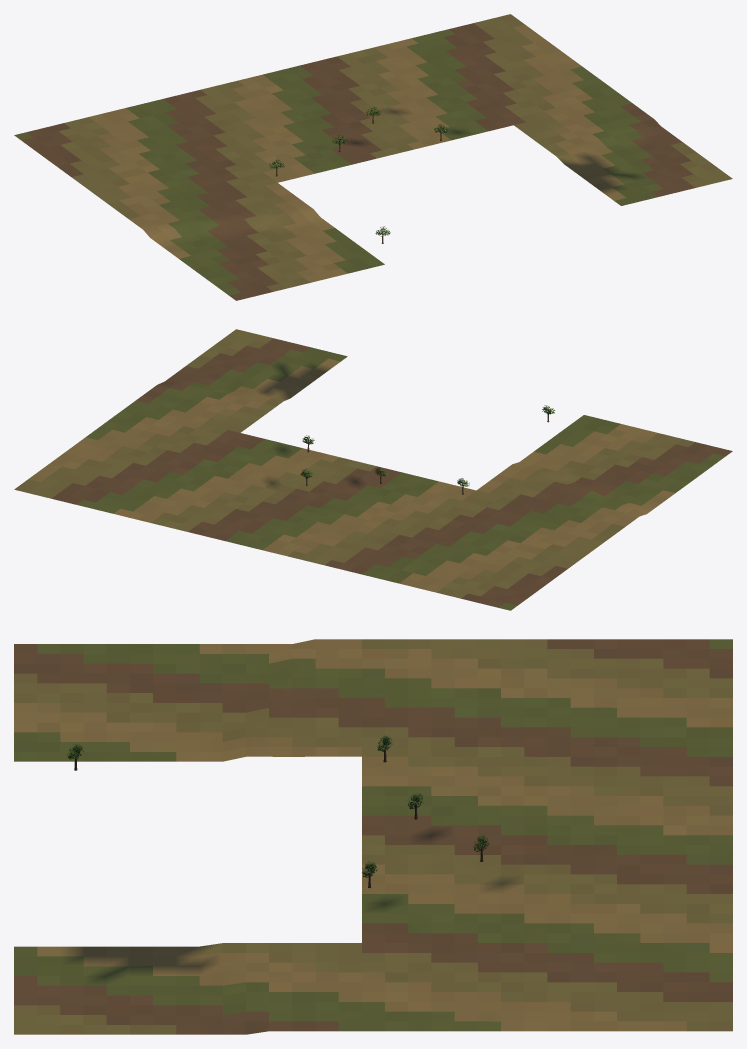
File: barrio_fondo.glb
3 renders of one model, top to bottom at view 1: azimuth 30°, elevation 25°; view 2: azimuth 150°, elevation 25°; view 3: azimuth 270°, elevation 25°, orthographic. The views are drawn at different scales.
Visible parts, largest first — view 1: piezas_fondo, vegetacion_fondo; view 2: piezas_fondo; view 3: piezas_fondo, vegetacion_fondo.
Part boxes in pixels (x1,y1,x2,y2): piezas_fondo: [14, 14, 732, 300]; vegetacion_fondo: [269, 106, 448, 236]; piezas_fondo: [14, 329, 732, 610]; piezas_fondo: [14, 639, 732, 1034]; vegetacion_fondo: [67, 735, 489, 877].
Size of the model in its own units: 240 by 8.99 by 186.
